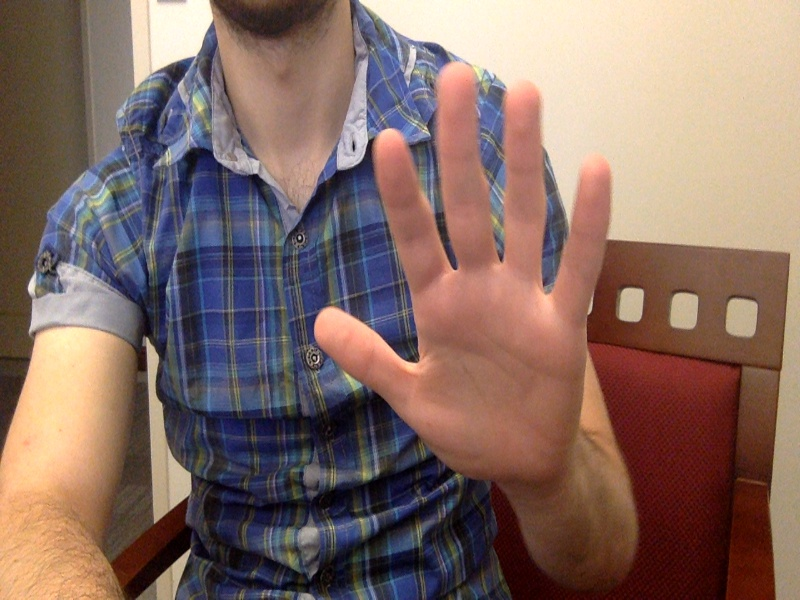5-hand: (314, 64, 618, 482)
